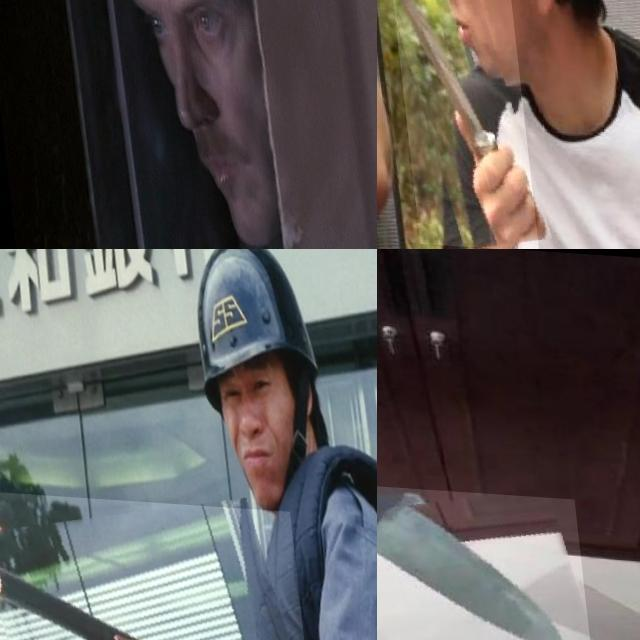-: (382, 0, 528, 245), (377, 480, 585, 640)
gun-knife-thesis - v11 Yolov5 augmented: (0, 490, 308, 640)
